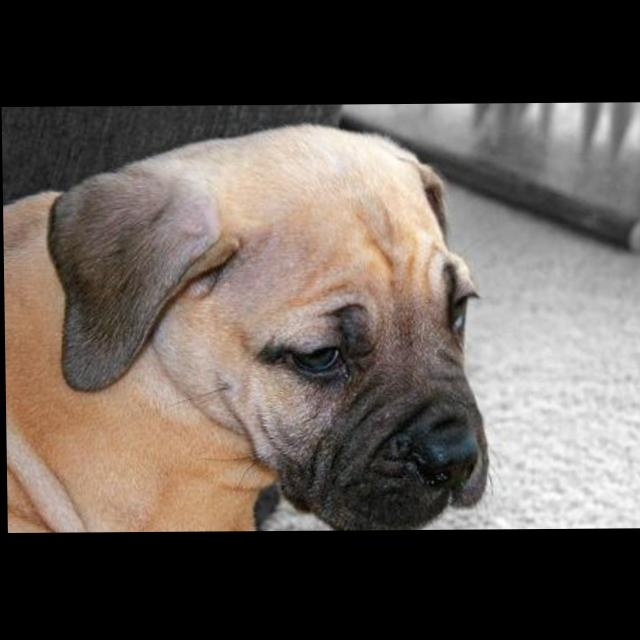bullmastiff: (2, 121, 491, 534)
